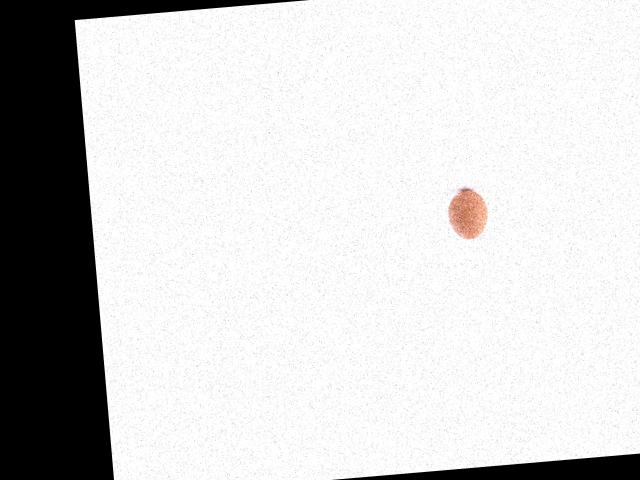egg: (445, 188, 489, 241)
